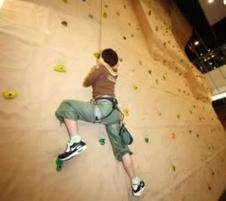person without safety: (54, 45, 149, 197)
